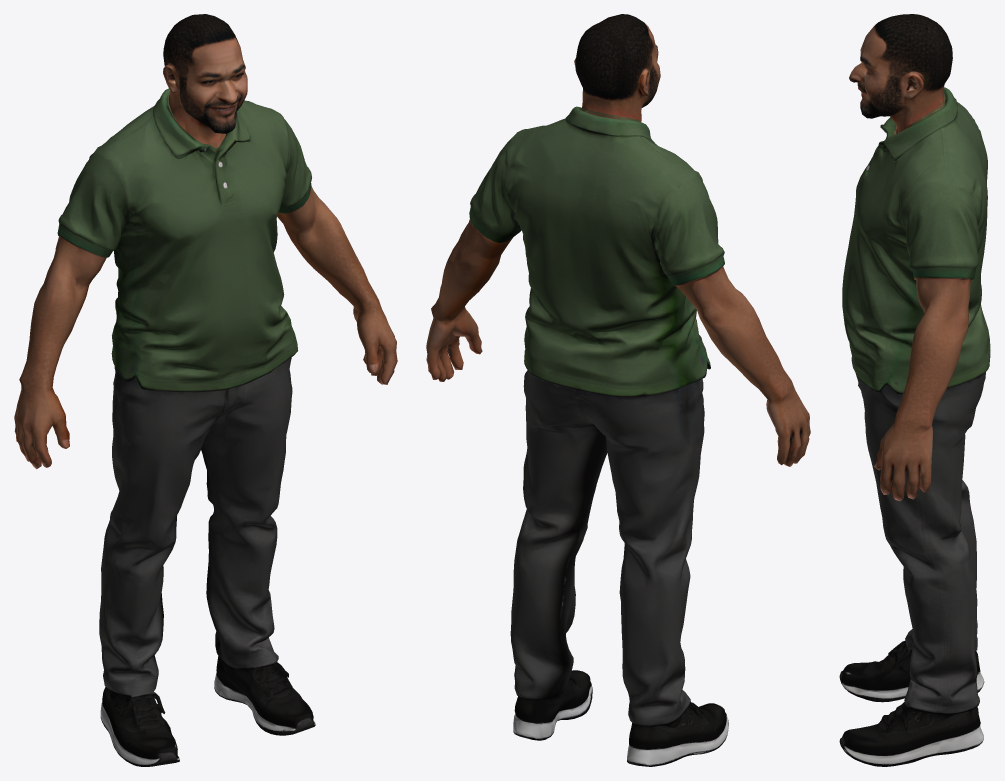
Rendered from jean.glb.
3 renders of one model, left to right at view 1: azimuth 30°, elevation 25°; view 2: azimuth 150°, elevation 25°; view 3: azimuth 270°, elevation 25°, orthographic.
Visible parts, largest first — view 1: tripo_node_7fcac909-3dbf-441c-a65a-931eb92b1e90; view 2: tripo_node_7fcac909-3dbf-441c-a65a-931eb92b1e90; view 3: tripo_node_7fcac909-3dbf-441c-a65a-931eb92b1e90.
Part boxes in pixels (x1,y1,x2,y2): tripo_node_7fcac909-3dbf-441c-a65a-931eb92b1e90: (14,14,397,766); tripo_node_7fcac909-3dbf-441c-a65a-931eb92b1e90: (426,14,810,766); tripo_node_7fcac909-3dbf-441c-a65a-931eb92b1e90: (839,14,990,766).
Size of the model in its own units: 0.9818 by 1.8 by 0.3478.
Materials: 1 (1 with a texture image).
